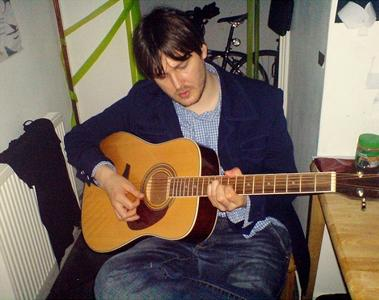person: (64, 5, 302, 300)
